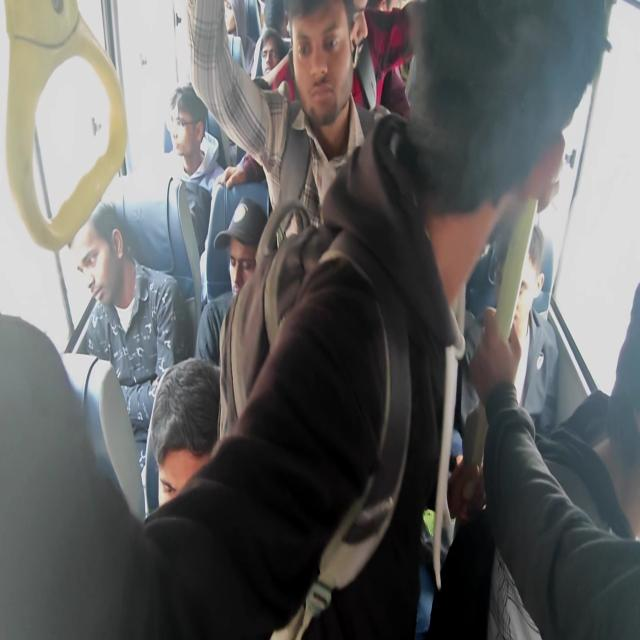person: (418, 2, 592, 246), (150, 398, 224, 540), (278, 14, 361, 132), (499, 228, 554, 318), (71, 225, 124, 303), (227, 225, 266, 312), (328, 0, 370, 65), (172, 91, 204, 173), (210, 0, 242, 45), (261, 31, 288, 72)
